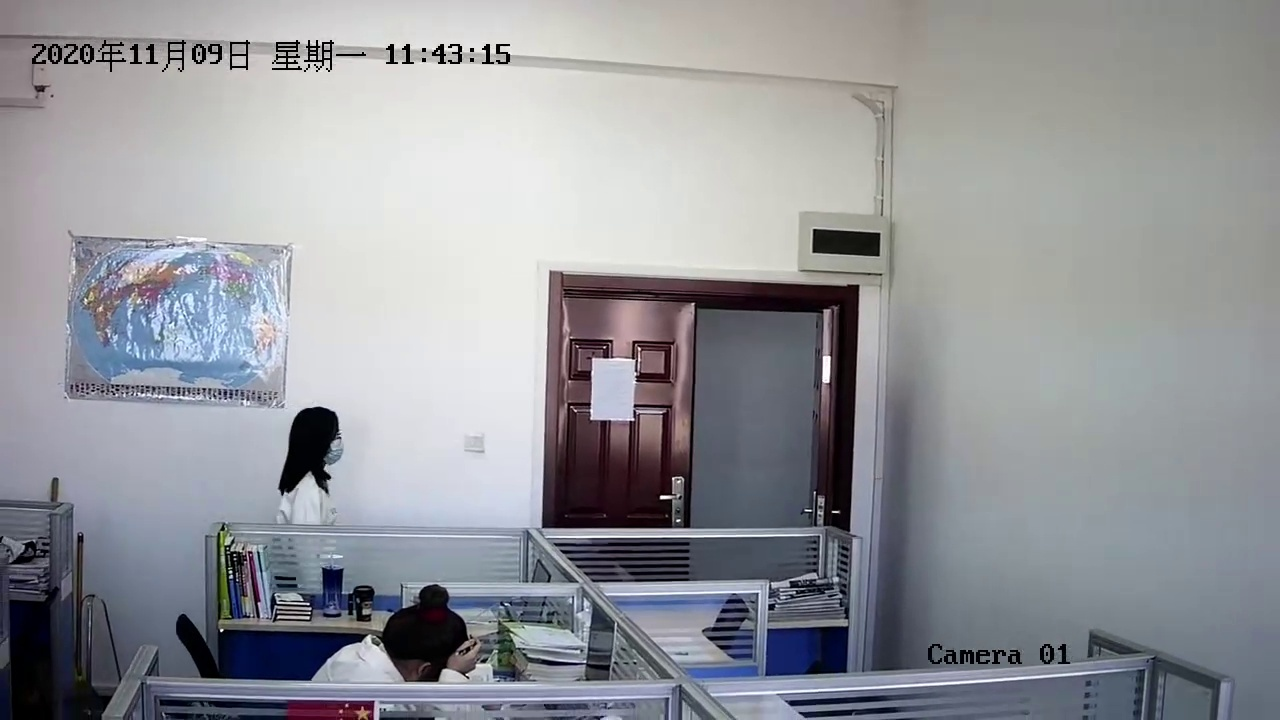mask: (302, 414, 348, 467)
